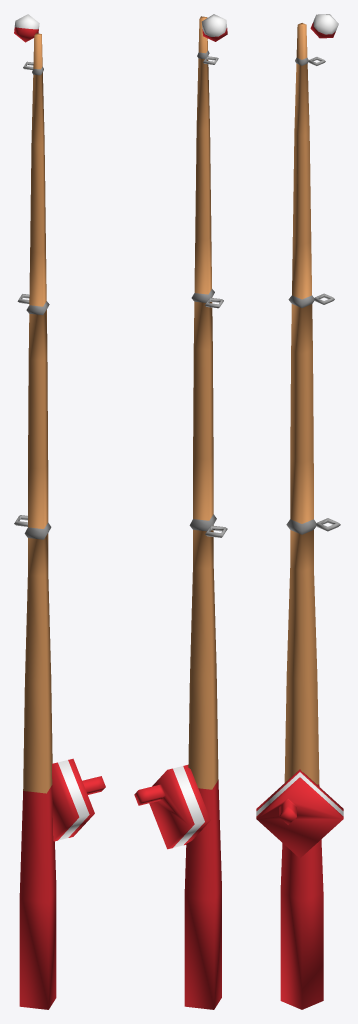
The model's file is Fishing road straight.fbx.
3 renders of one model, left to right at view 1: azimuth 30°, elevation 25°; view 2: azimuth 210°, elevation 25°; view 3: azimuth 270°, elevation 25°, orthographic.
Parts seen in each view (by area): view 1: Fishing road Straight; view 2: Fishing road Straight; view 3: Fishing road Straight.
Boxes of the visible parts, bbox=[...] form: Fishing road Straight: bbox=[14, 14, 105, 1009]; Fishing road Straight: bbox=[134, 14, 227, 1009]; Fishing road Straight: bbox=[256, 14, 343, 1009].
Bounding box in the file's own units: 97.87 × 1216 × 97.35.
